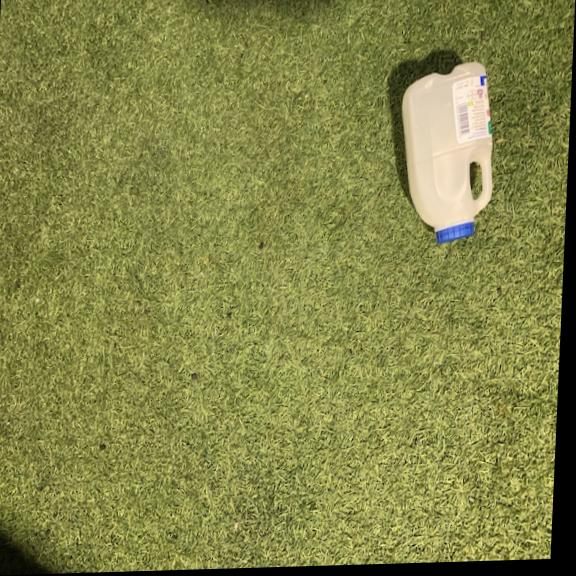Plastik: (394, 62, 499, 244)
